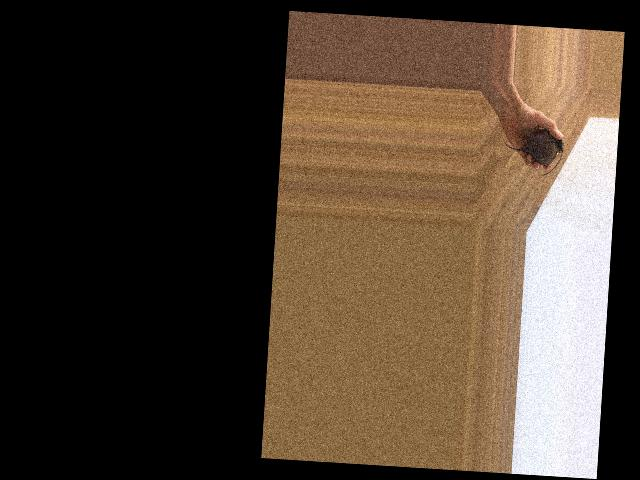beet: (502, 127, 565, 177)
